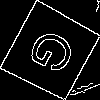G: (25, 26, 86, 82)
